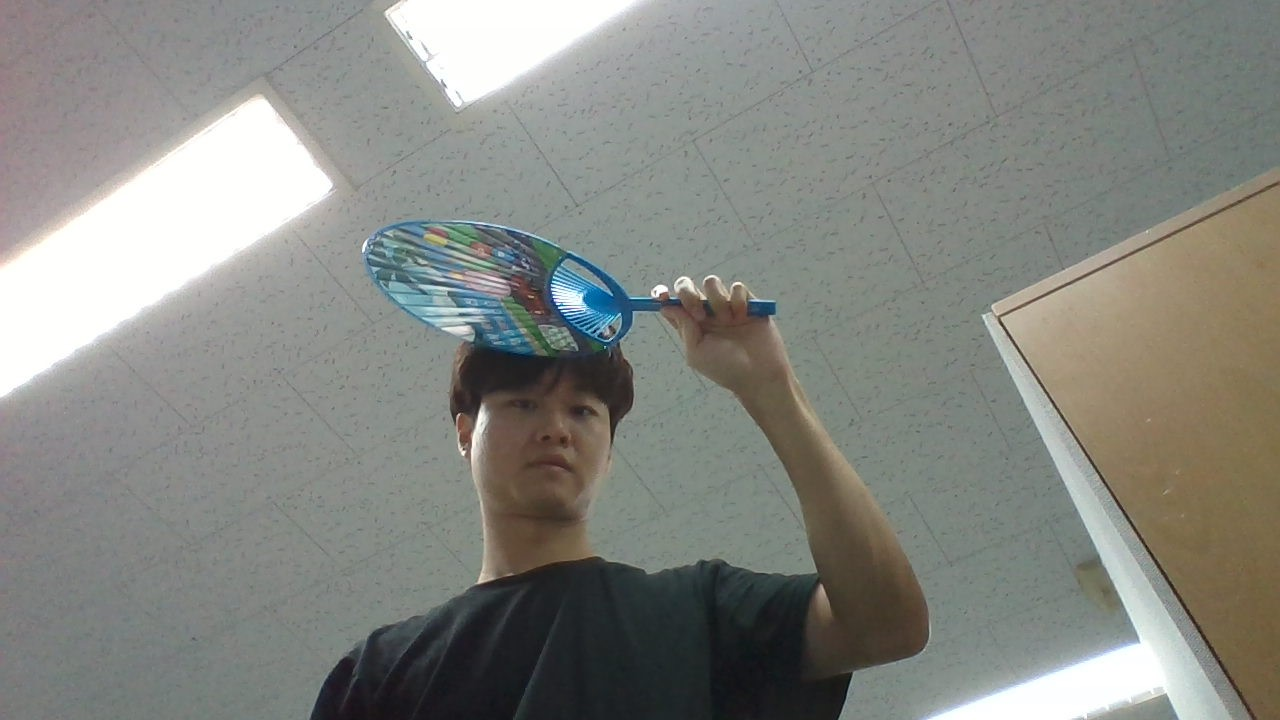Non-Helmet: (410, 264, 644, 535)
